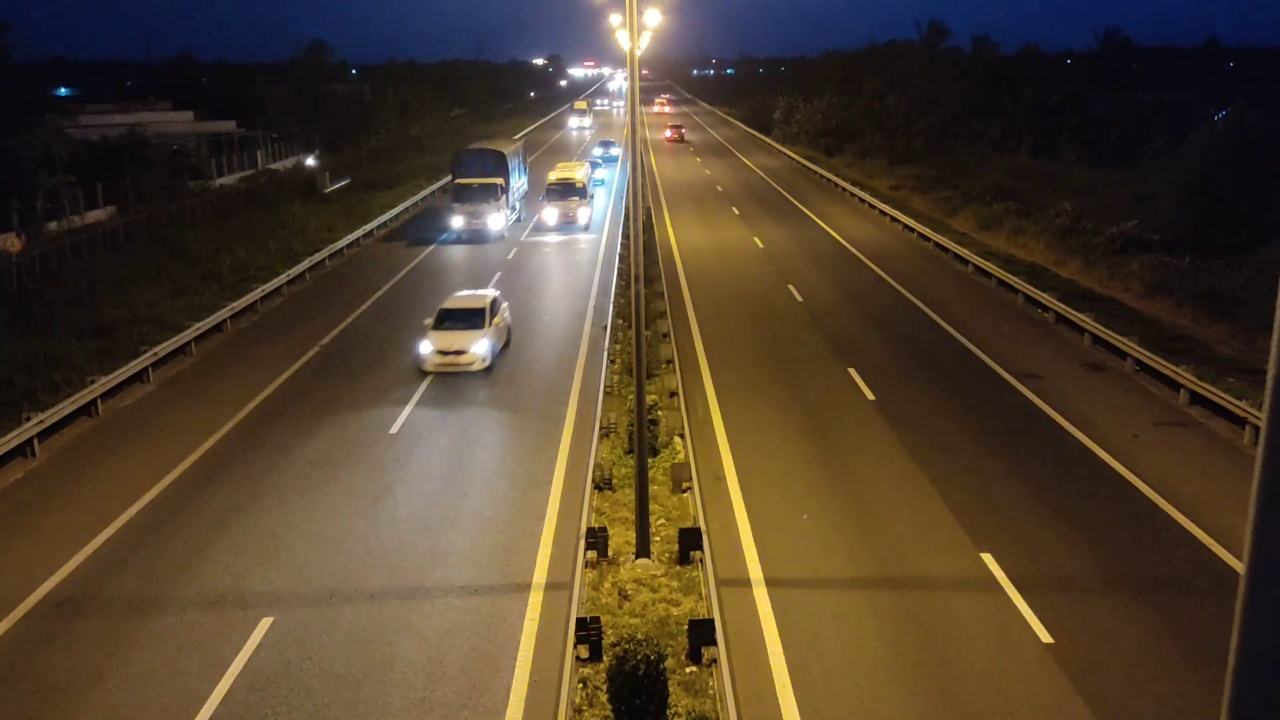bus: (533, 158, 597, 234)
car: (414, 285, 513, 373), (663, 123, 689, 143)
truck: (449, 134, 531, 240)
